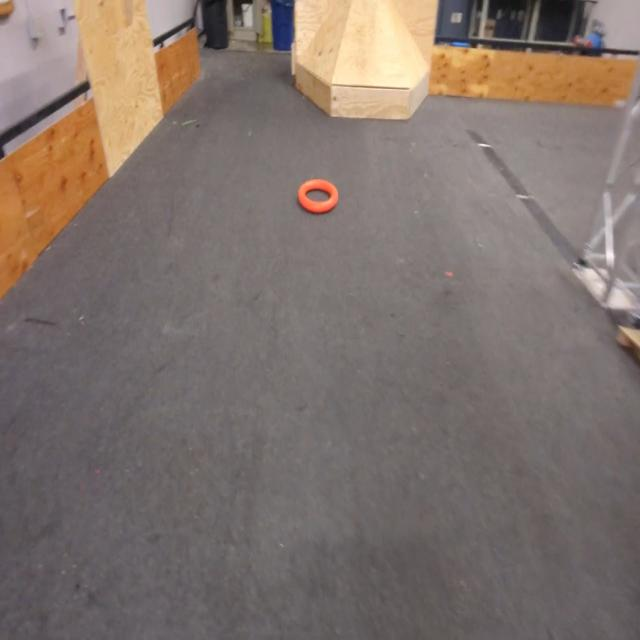note: (298, 176, 340, 213)
